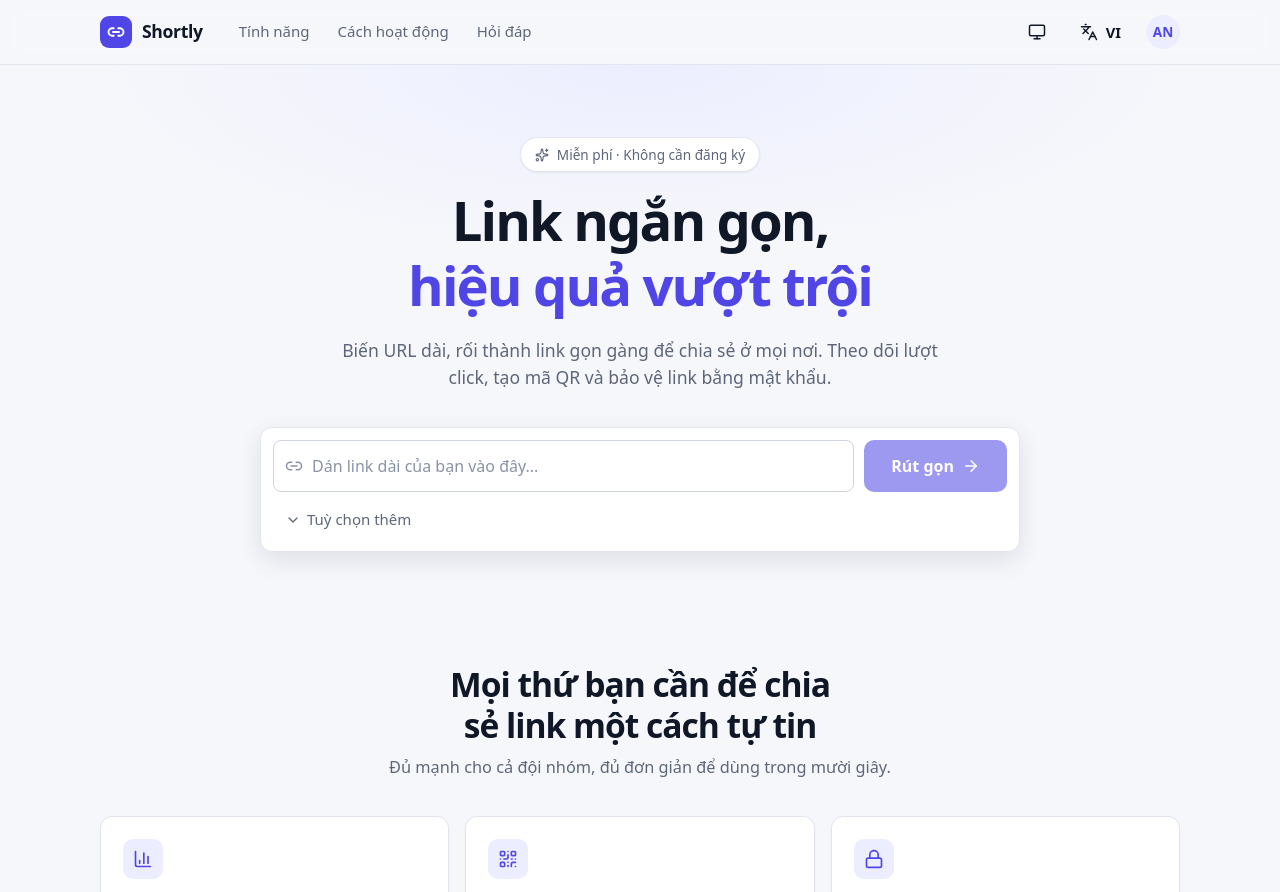
avatar ở thanh trên của trang công khai › mục Link của tôi đi tới danh sách link
This screenshot has width=1280, height=892.
Click the button with aria-label "Menu tài khoản". click: {"x": 1163, "y": 32}
box: [1146, 15, 1180, 49]
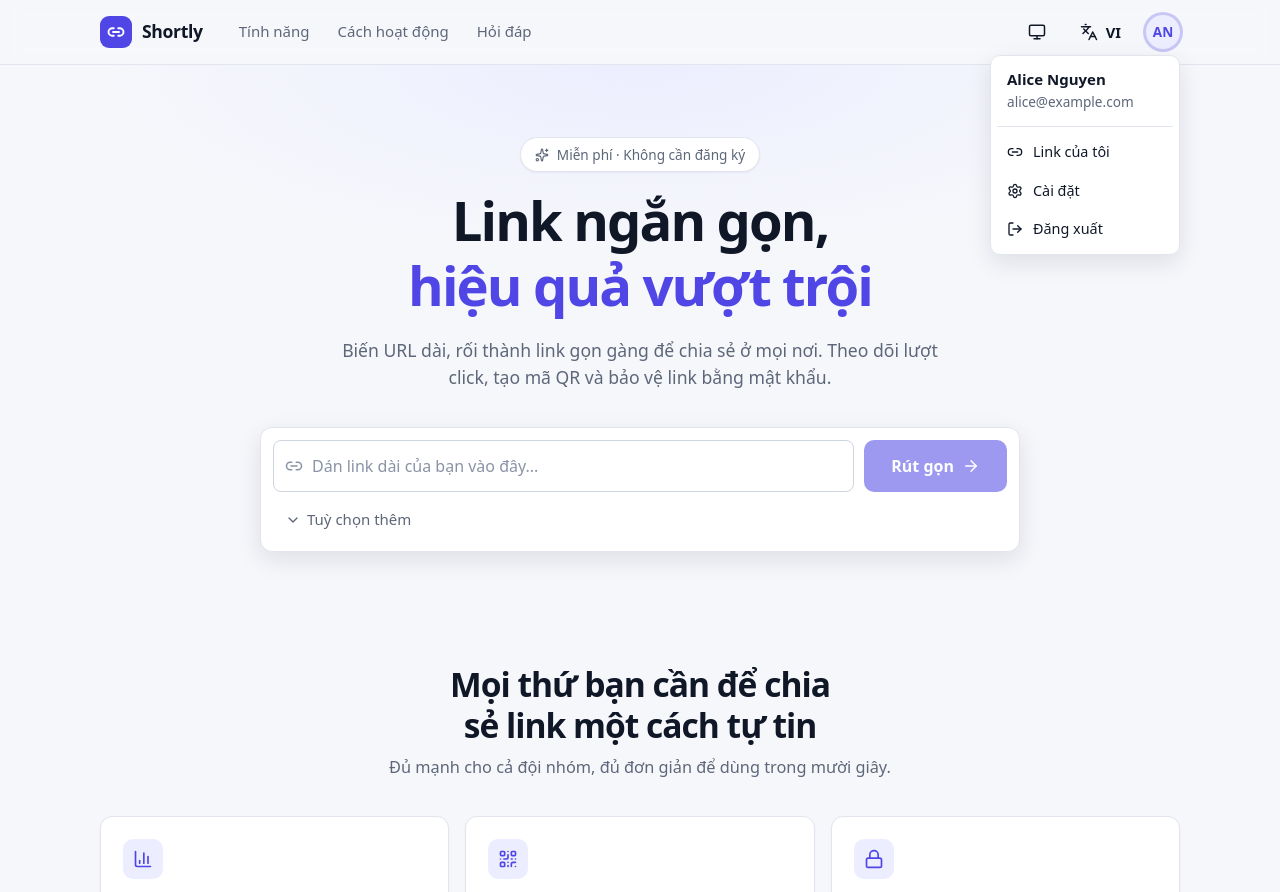
Click the menu item "Link của tôi". click: {"x": 1085, "y": 152}
box: [997, 133, 1173, 172]
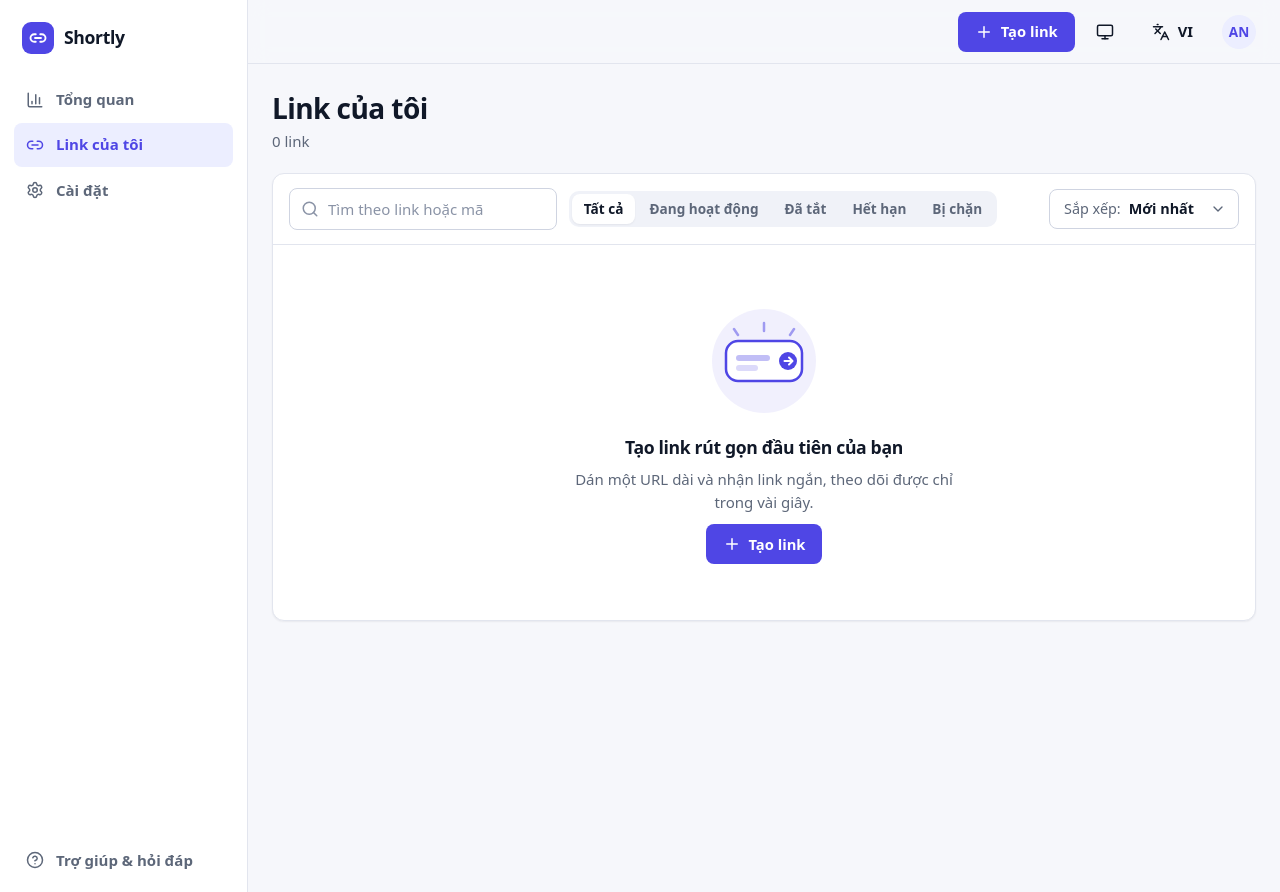
expect the heading "Link của tôi" is shown: met, box [272, 92, 428, 126]
